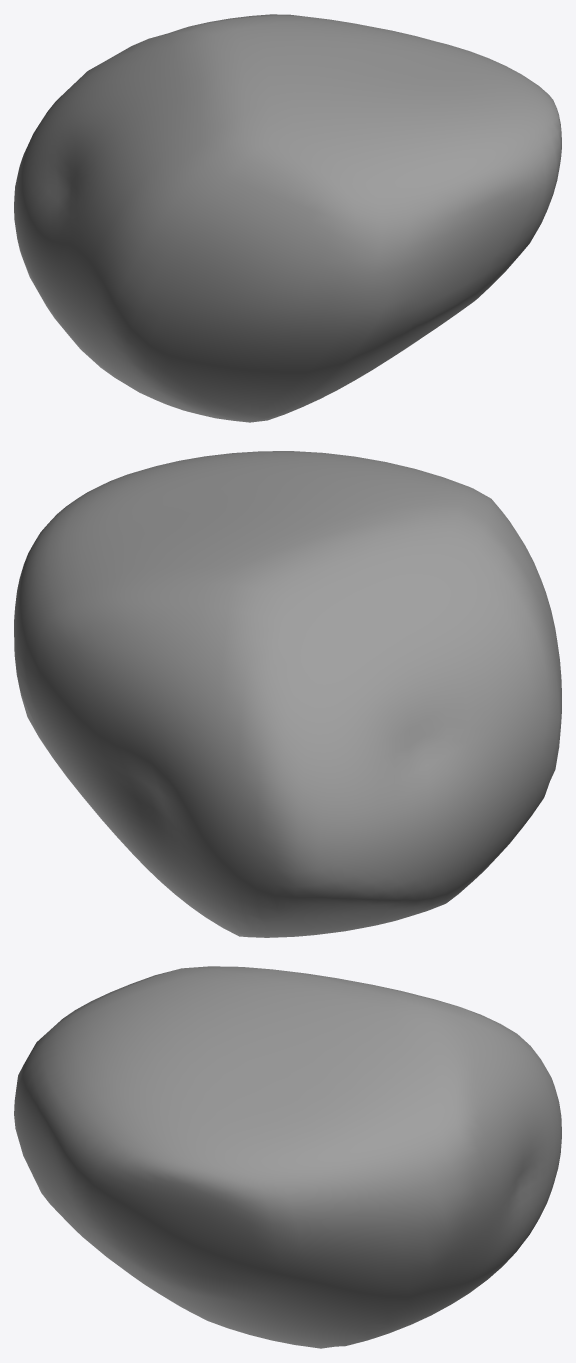
Rendered from rockObj.fbx.
The picture shows the model from 3 angles, top to bottom: view 1: azimuth 30°, elevation 25°; view 2: azimuth 150°, elevation 25°; view 3: azimuth 270°, elevation 25°; orthographic projection. The views are drawn at different scales.
Parts seen in each view (by area): view 1: Cube; view 2: Cube; view 3: Cube.
Part boxes in pixels (x1=…): Cube: x1=14, y1=14, x2=561, y2=422; Cube: x1=14, y1=451, x2=561, y2=937; Cube: x1=14, y1=966, x2=561, y2=1348.
Bounding box in the file's own units: 22.84 × 16.49 × 24.1.
Materials: 1 (1 with a texture image).
